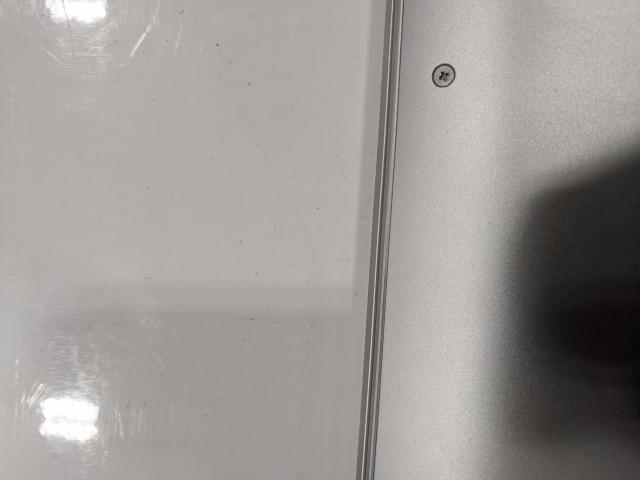CRS: (431, 62, 456, 90)
